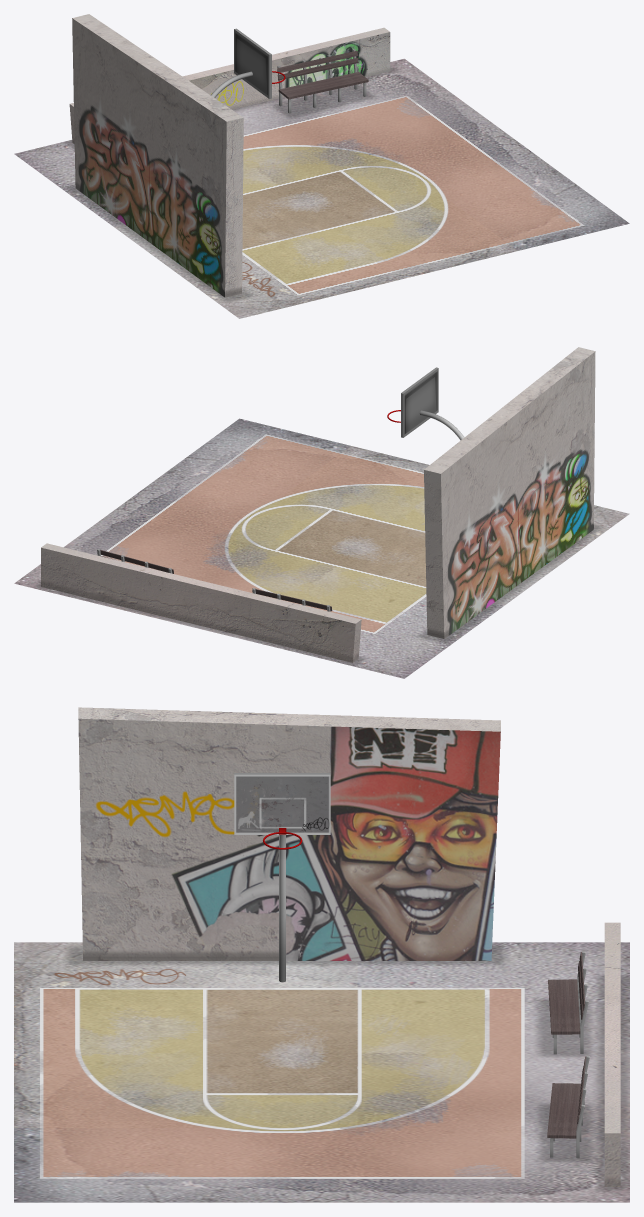
The model's file is Basketball Court.fbx.
The picture shows the model from 3 angles, top to bottom: view 1: azimuth 30°, elevation 25°; view 2: azimuth 150°, elevation 25°; view 3: azimuth 270°, elevation 25°; orthographic projection. The views are drawn at different scales.
Visible parts, largest first — view 1: basketball_court; view 2: basketball_court; view 3: basketball_court.
Part boxes in pixels (box(x1,y1,x2,y2)): basketball_court: box(14, 14, 629, 318); basketball_court: box(14, 347, 629, 678); basketball_court: box(14, 707, 629, 1202).
Bounding box in the file's own units: 10 × 4.35 × 10.
1 material, 1 textured.
